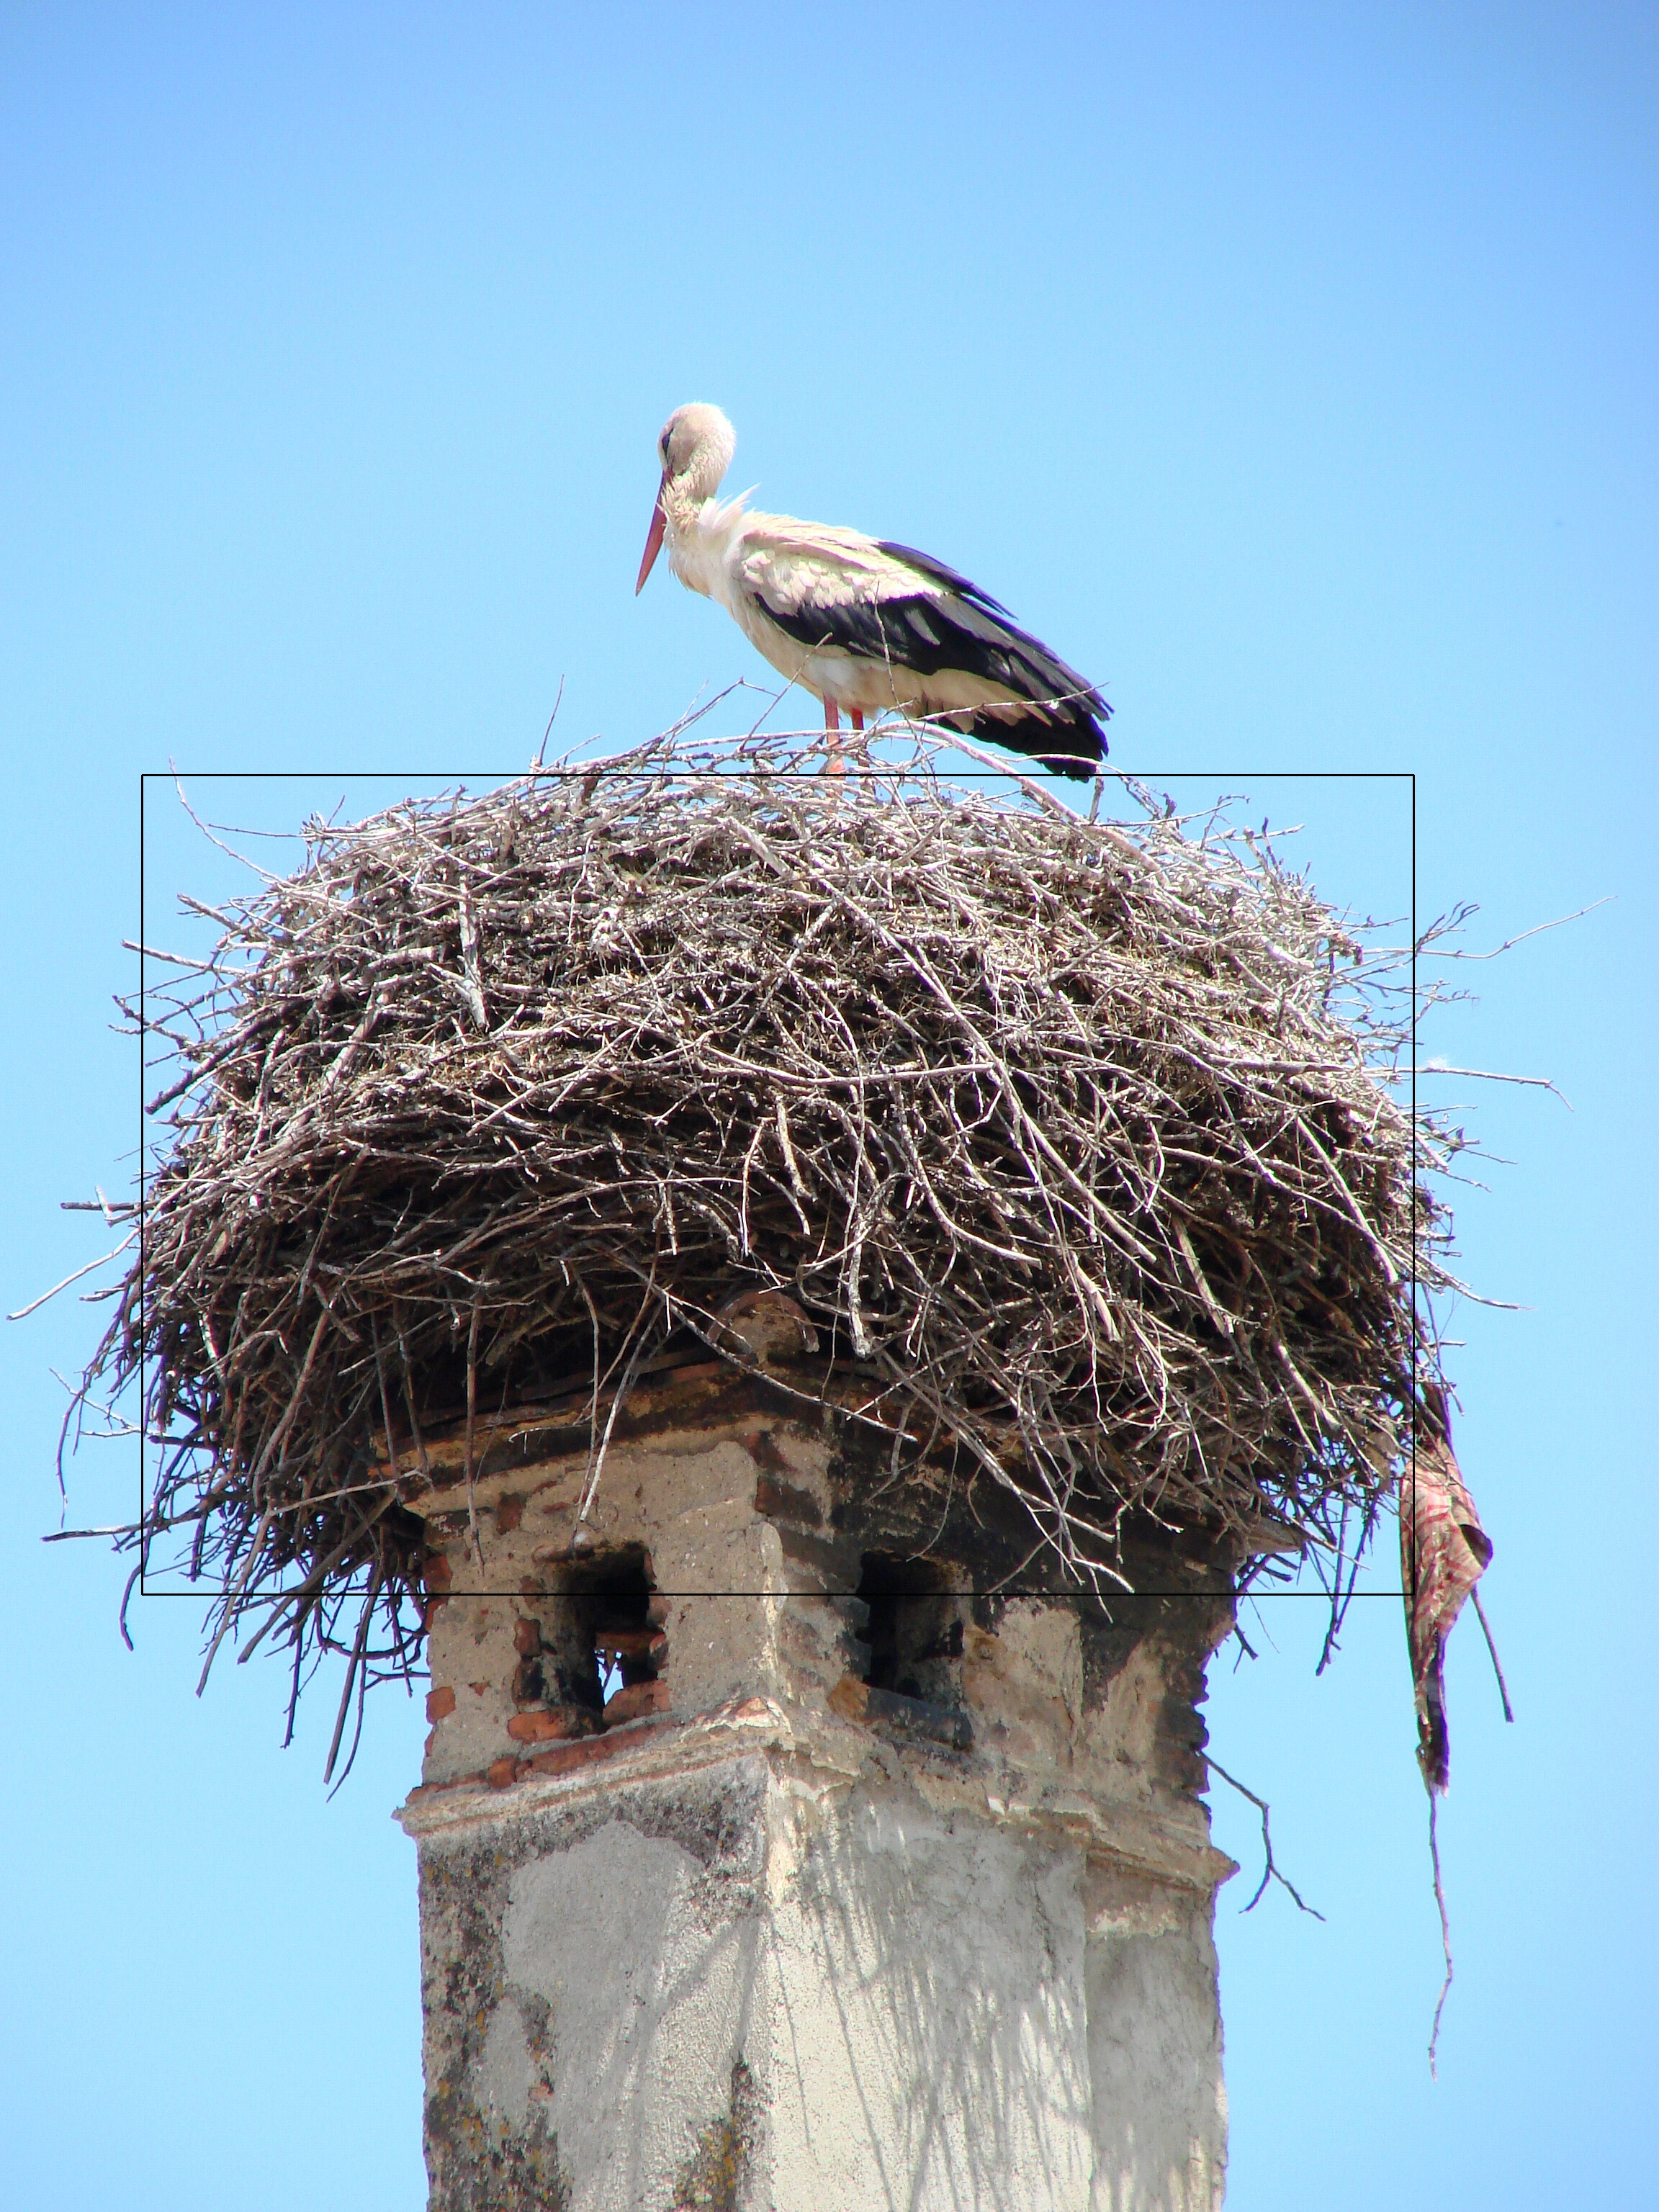bird-nest: (141, 775, 1413, 1594)
